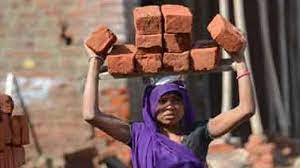arm: (185, 56, 256, 143), (208, 0, 248, 55)
face: (154, 88, 186, 127)
glove: (210, 12, 248, 53), (185, 118, 209, 144)
helmet: (143, 69, 189, 127)
human: (112, 68, 221, 166)
nogoggle: (159, 95, 182, 111)
vest: (129, 2, 193, 71), (129, 123, 205, 167)
